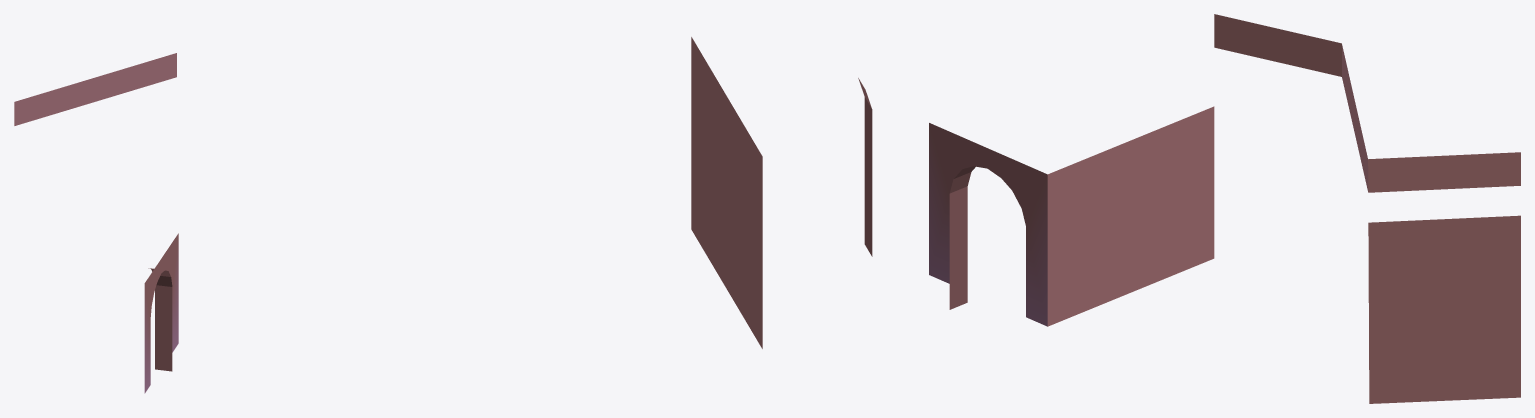
File: ClothingBuildingBrick_0.glb
3 renders of one model, left to right at view 1: azimuth 30°, elevation 25°; view 2: azimuth 150°, elevation 25°; view 3: azimuth 270°, elevation 25°, orthographic. The views are drawn at different scales.
Visible parts, largest first — view 1: ClothingBuildingBrick; view 2: ClothingBuildingBrick; view 3: ClothingBuildingBrick.
Part boxes in pixels (<box>): ClothingBuildingBrick: <box>14,53,178,393</box>; ClothingBuildingBrick: <box>691,37,872,348</box>; ClothingBuildingBrick: <box>929,14,1520,403</box>.
Size of the model in its own units: 4.76 by 4.15 by 8.19.
